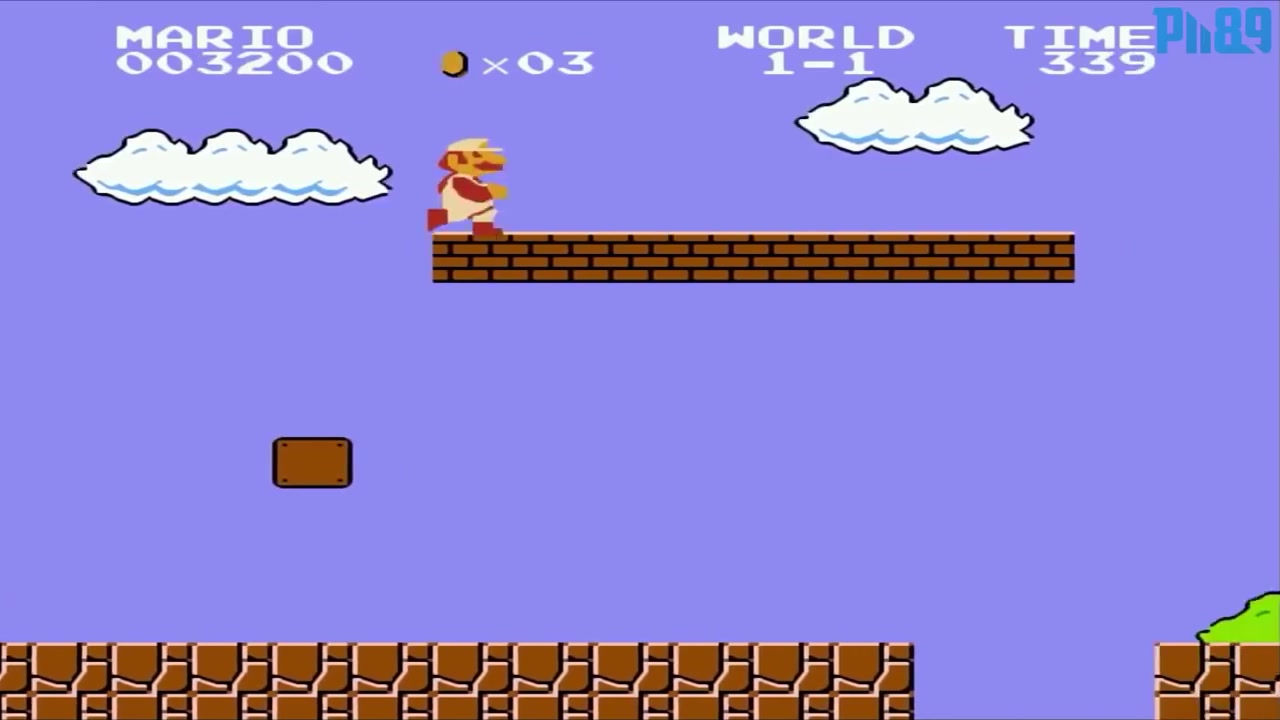mario: (424, 129, 511, 247)
